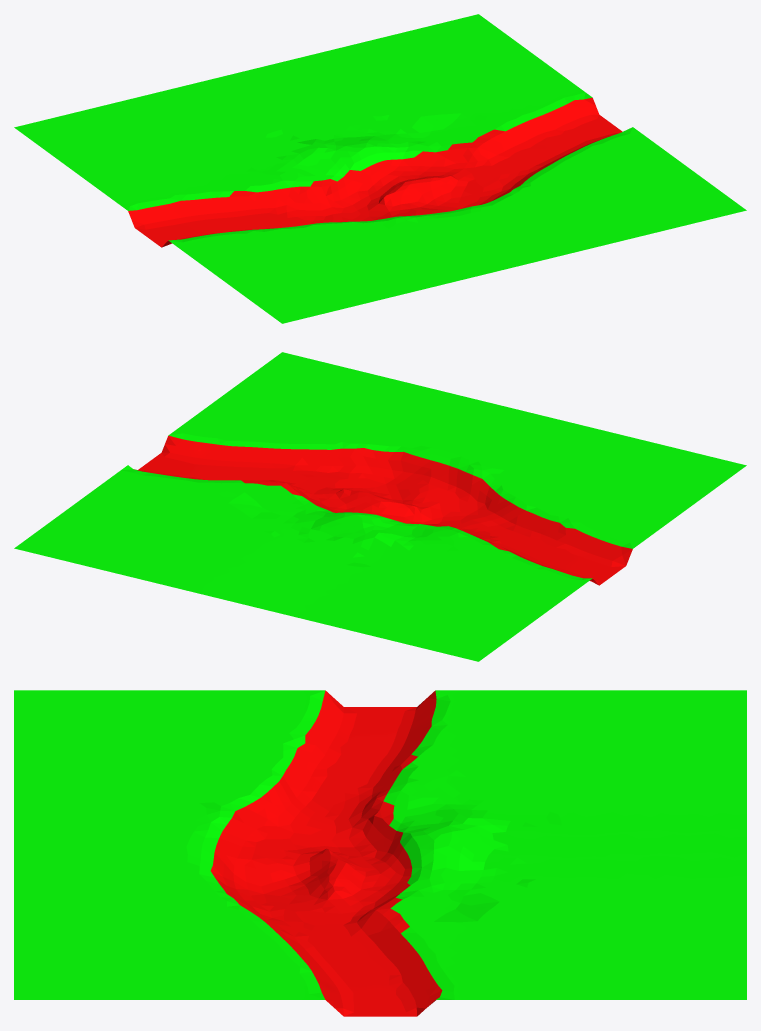
The model's file is RiverBifurcation03.fbx.
The picture shows the model from 3 angles, top to bottom: view 1: azimuth 30°, elevation 25°; view 2: azimuth 150°, elevation 25°; view 3: azimuth 270°, elevation 25°; orthographic projection. The views are drawn at different scales.
Visible parts, largest first — view 1: RiverBifurcation03; view 2: RiverBifurcation03; view 3: RiverBifurcation03.
Boxes of the visible parts, x1,y1,x2,y2 form: RiverBifurcation03: (14, 14, 746, 323); RiverBifurcation03: (14, 352, 746, 661); RiverBifurcation03: (14, 690, 746, 1016).
Size of the model in its own units: 5009 by 273 by 5009.
